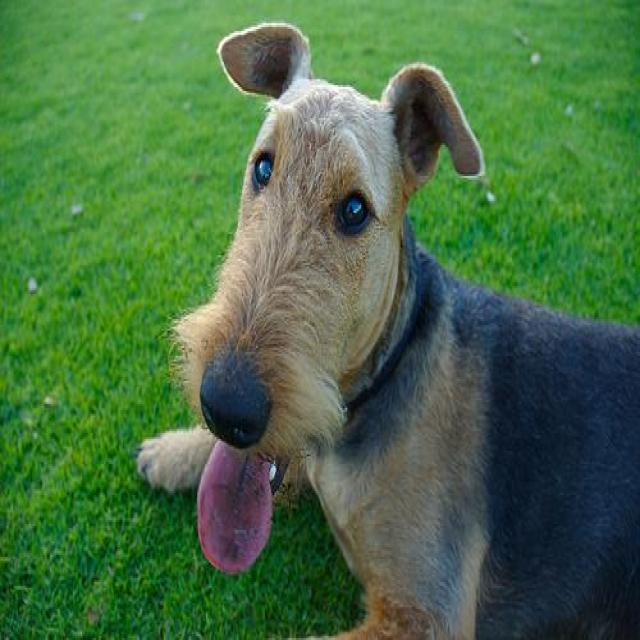airedale: (136, 19, 638, 638)
